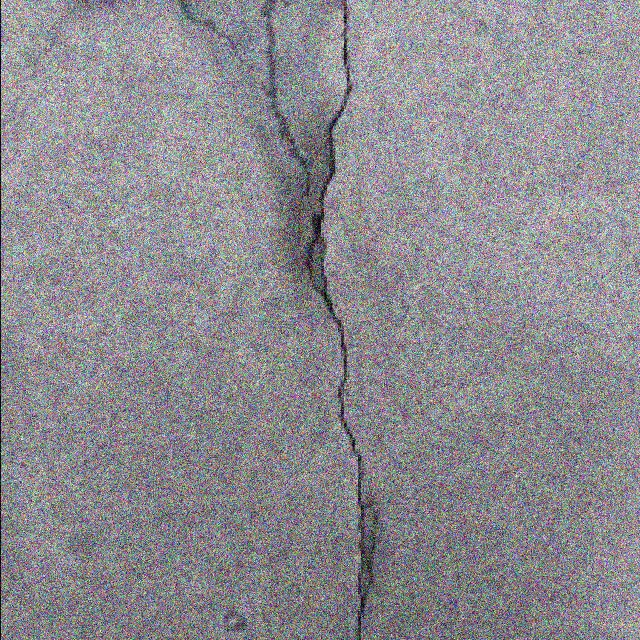SurfaceCrack: (212, 0, 418, 640)
